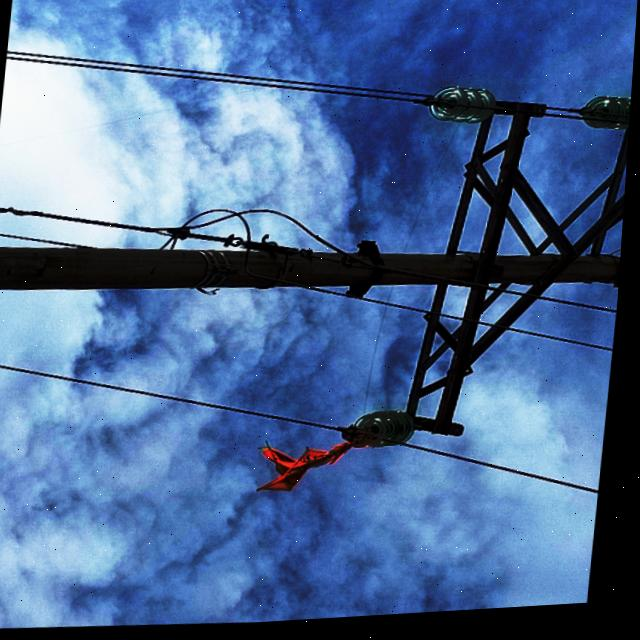obstruction: (260, 431, 381, 500)
poles: (0, 88, 631, 458)
wires: (0, 198, 619, 326), (0, 347, 348, 441), (7, 45, 428, 114), (379, 440, 605, 512), (241, 271, 471, 325), (477, 328, 616, 362), (543, 111, 589, 132)
